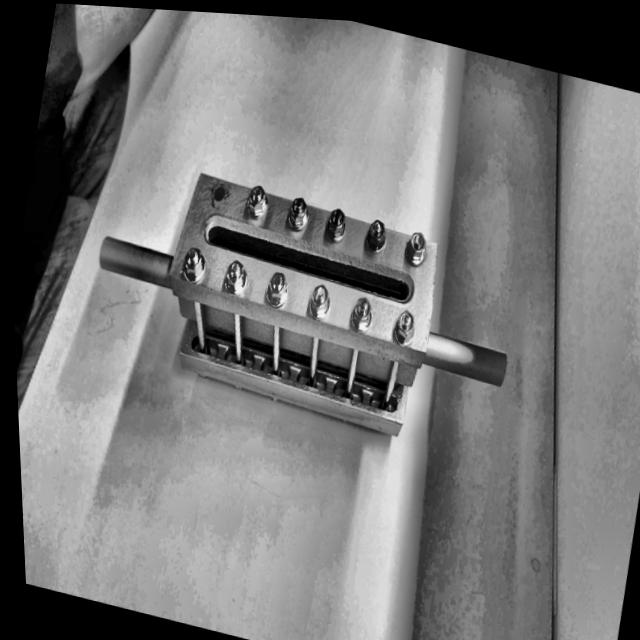ShuiWeiQi_11: (66, 66, 549, 489)
